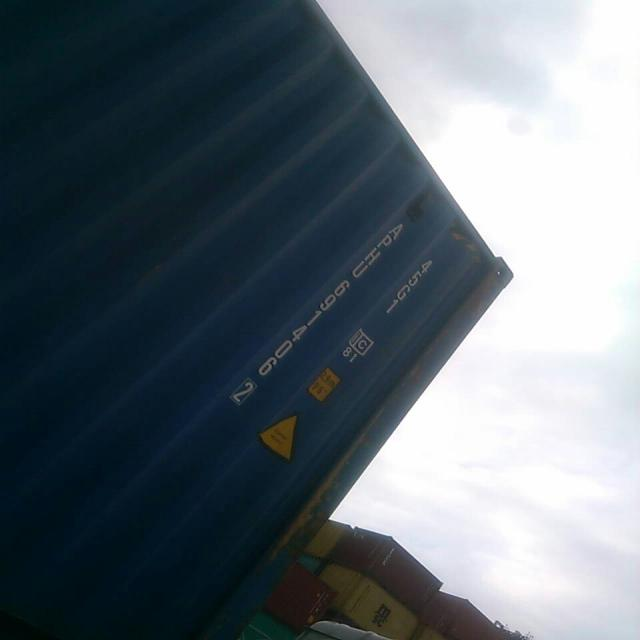rust: (271, 446, 358, 555), (422, 263, 515, 352)
